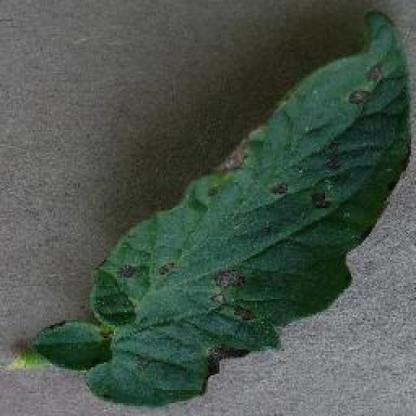Tomato_Blight: (21, 13, 407, 403)
